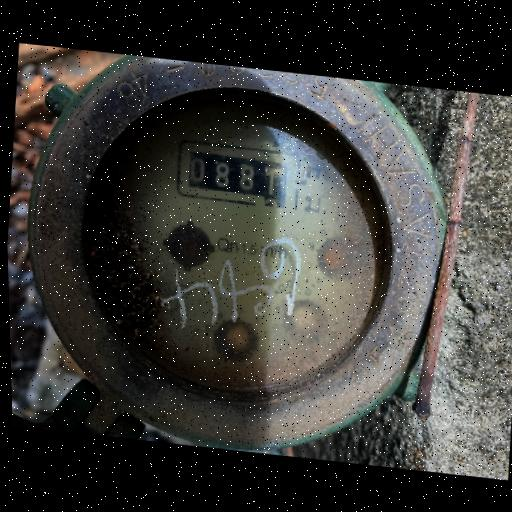0: (187, 152, 213, 190)
1: (262, 161, 289, 209)
8: (235, 158, 267, 196), (208, 154, 239, 193)
border_water_meter_number: (174, 139, 304, 211)
